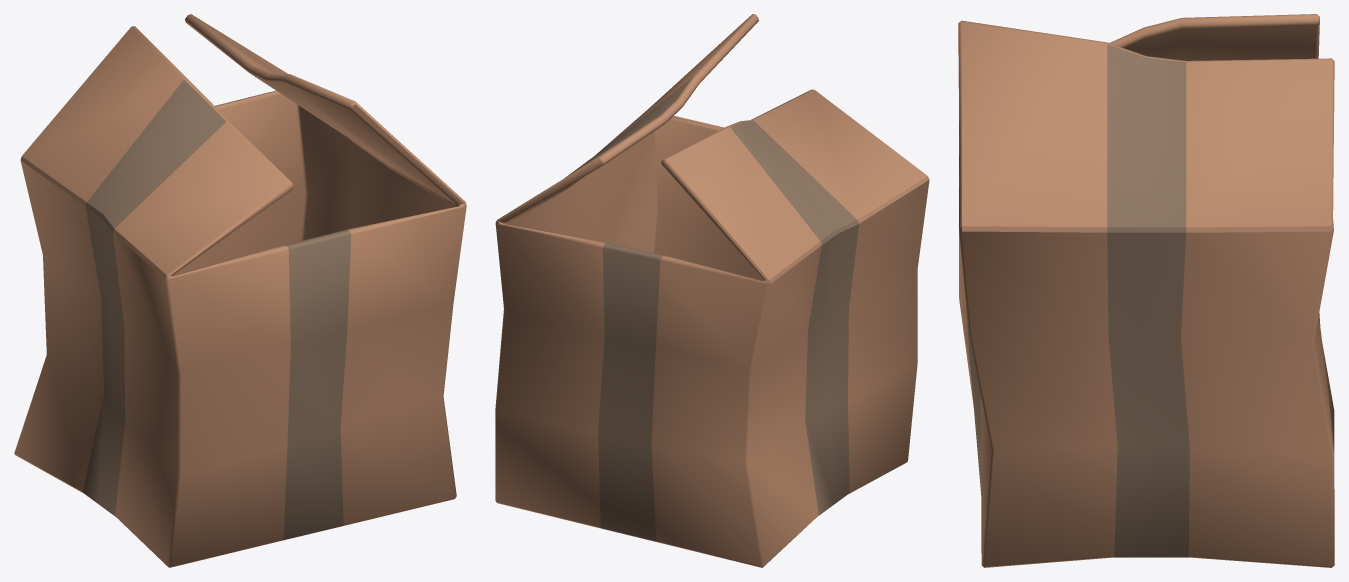
3 renders of one model, left to right at view 1: azimuth 30°, elevation 25°; view 2: azimuth 150°, elevation 25°; view 3: azimuth 270°, elevation 25°, orthographic. The views are drawn at different scales.
Parts seen in each view (by area): view 1: Cube.002; view 2: Cube.002; view 3: Cube.002.
Part boxes in pixels (x1=…): Cube.002: x1=14, y1=14, x2=466, y2=567; Cube.002: x1=495, y1=14, x2=929, y2=567; Cube.002: x1=958, y1=14, x2=1334, y2=567.
Bounding box in the file's own units: 1.75 × 2.39 × 1.68.
